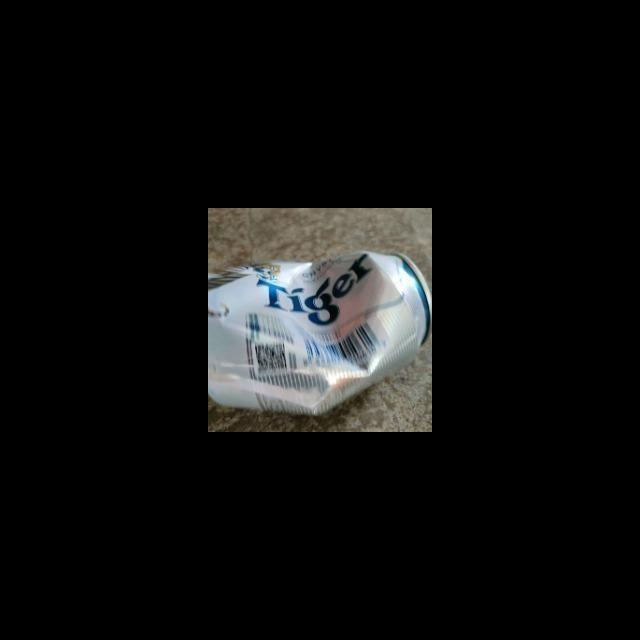metal: (208, 252, 432, 419)
